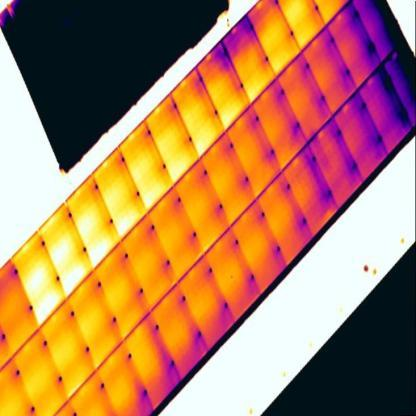anomaly: (22, 259, 61, 326), (79, 211, 113, 270), (51, 236, 82, 293), (112, 209, 135, 235), (140, 184, 158, 210)
